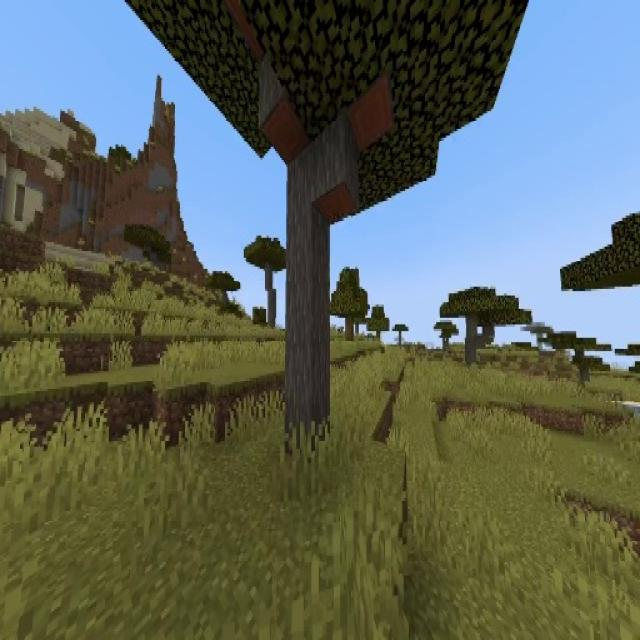acacia: (122, 0, 527, 454), (440, 286, 526, 365), (245, 235, 287, 328)
acacia_log: (283, 120, 353, 452), (264, 265, 277, 328), (466, 316, 476, 359)
